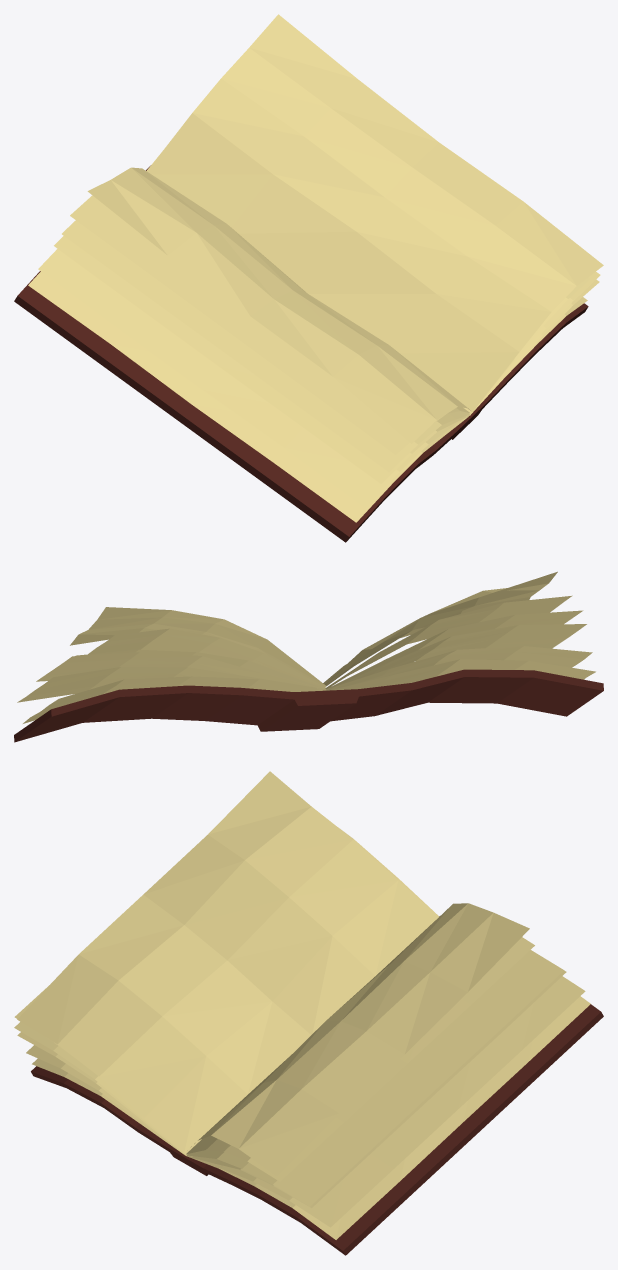
Rendered from book.fbx.
3 renders of one model, top to bottom at view 1: azimuth 30°, elevation 25°; view 2: azimuth 150°, elevation 25°; view 3: azimuth 270°, elevation 25°, orthographic. The views are drawn at different scales.
Parts seen in each view (by area): view 1: pg.6, pg.2, Cover, pg.5, pg.4, pg.1, pg.3; view 2: Cover, pg.6, pg.3, pg.5, pg.2, pg.1, pg.4; view 3: pg.6, pg.4, pg.2, Cover, pg.1, pg.5, pg.3.
Boxes of the visible parts, bbox=[...] form: pg.6: bbox=[87, 14, 603, 443]; pg.2: bbox=[38, 249, 599, 508]; Cover: bbox=[14, 165, 588, 542]; pg.5: bbox=[70, 152, 589, 454]; pg.4: bbox=[62, 220, 599, 471]; pg.1: bbox=[28, 271, 587, 522]; pg.3: bbox=[54, 236, 600, 483]; Cover: bbox=[14, 669, 603, 742]; pg.6: bbox=[70, 571, 557, 686]; pg.3: bbox=[36, 624, 586, 690]; pg.5: bbox=[88, 595, 572, 688]; pg.2: bbox=[17, 646, 592, 702]; pg.1: bbox=[23, 659, 595, 723]; pg.4: bbox=[76, 610, 583, 689]; pg.6: bbox=[17, 771, 529, 1175]; pg.4: bbox=[14, 950, 564, 1206]; pg.2: bbox=[26, 976, 585, 1227]; Cover: bbox=[31, 916, 603, 1255]; pg.1: bbox=[32, 996, 590, 1239]; pg.5: bbox=[14, 829, 534, 1181]; pg.3: bbox=[17, 970, 566, 1208].
Bounding box in the file's own units: 2134 × 955 × 2027.
